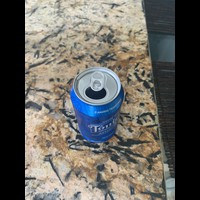tonica: (65, 65, 129, 144)
